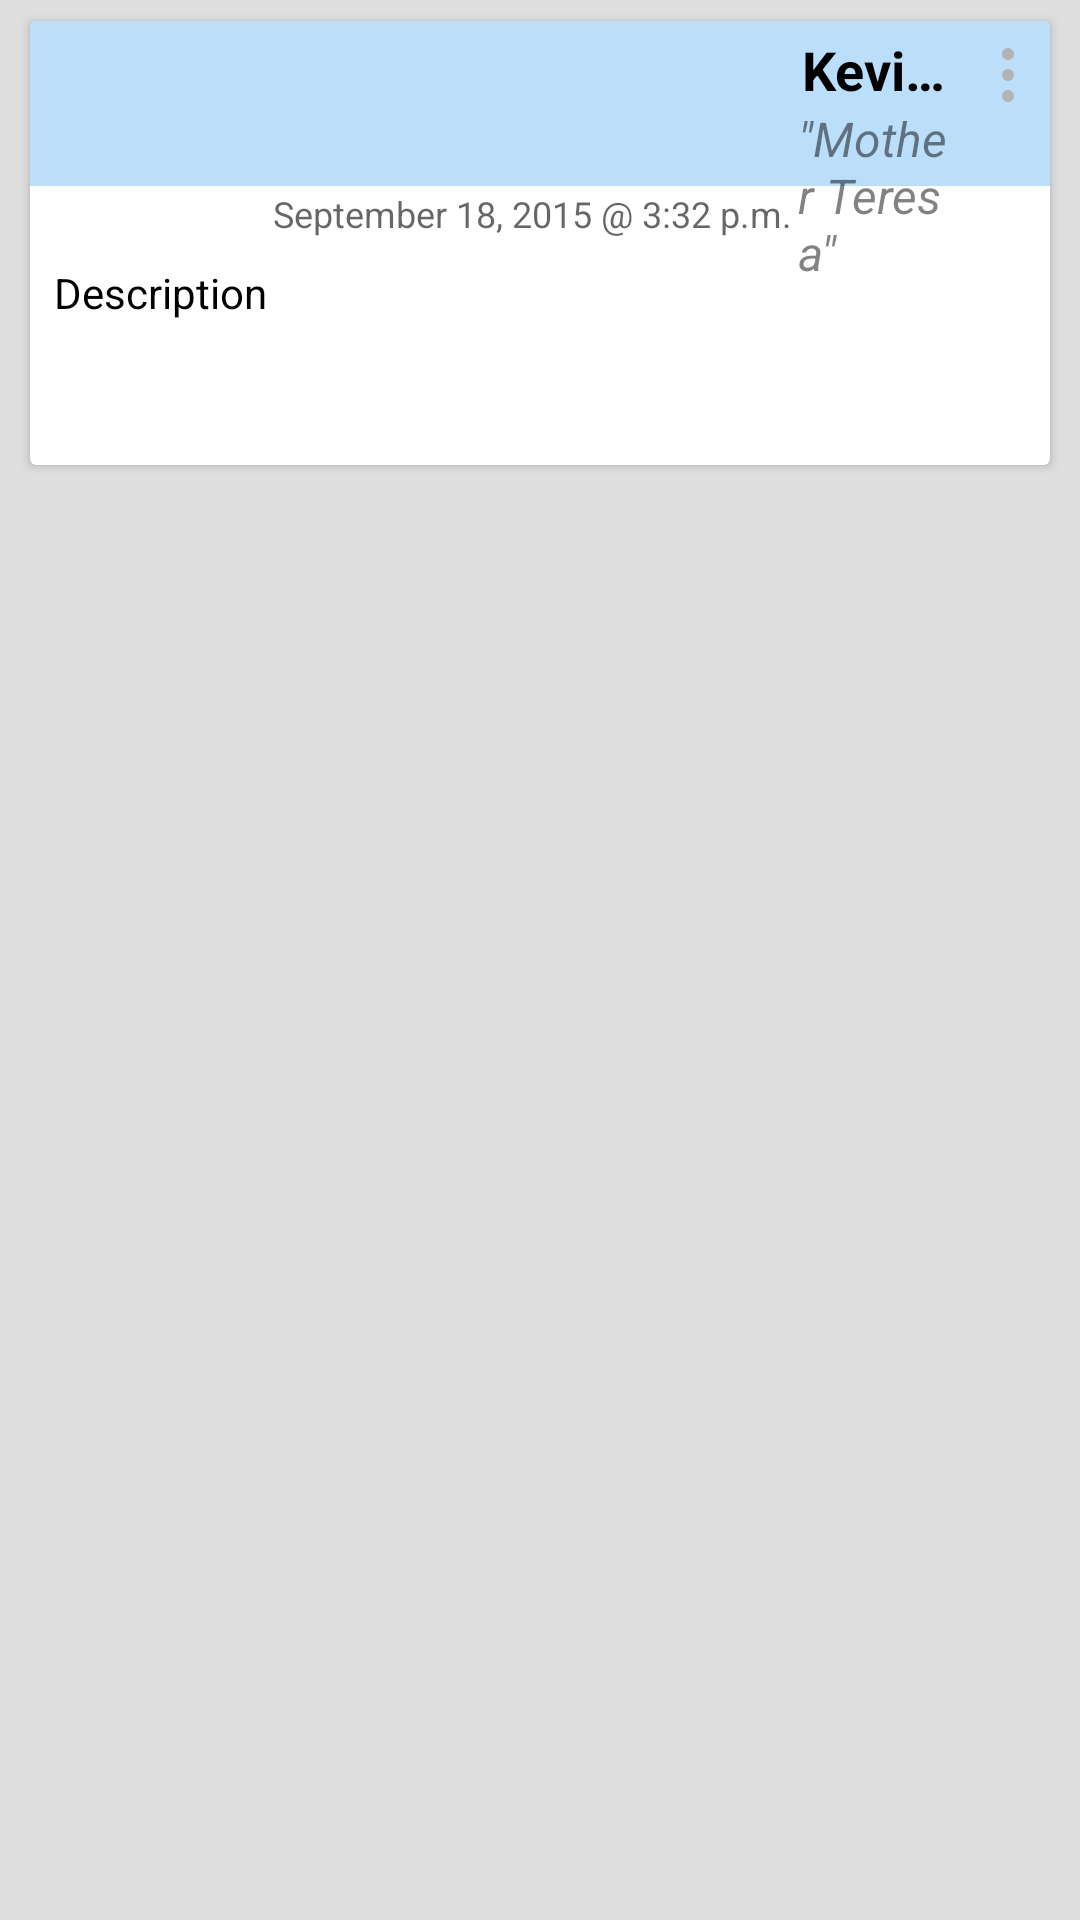

Screen size 1080w x 1920h. Icon name, then its center in pixels as (x,y):
menu: (1008,75)
